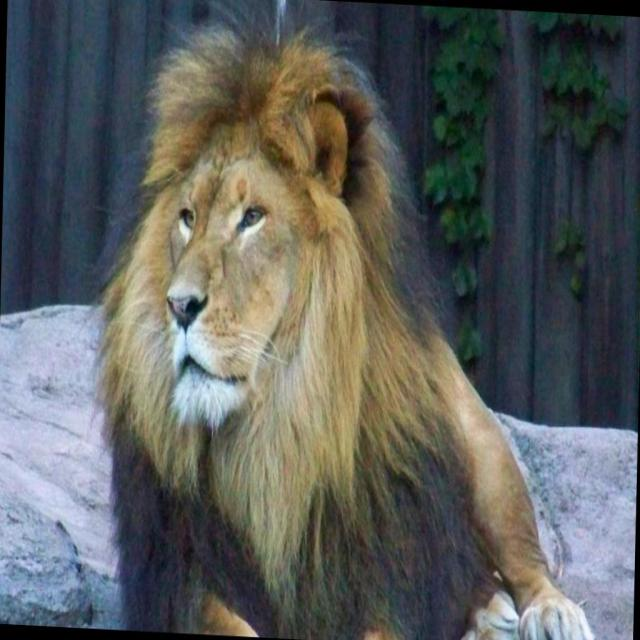Lion: (61, 0, 609, 639)
